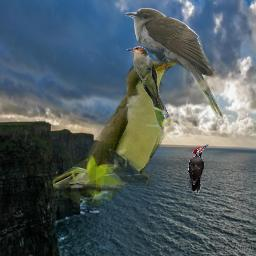Cuckoo: (53, 56, 181, 207), (125, 8, 223, 120), (126, 46, 171, 131)
Woodpecker: (184, 144, 210, 194)
